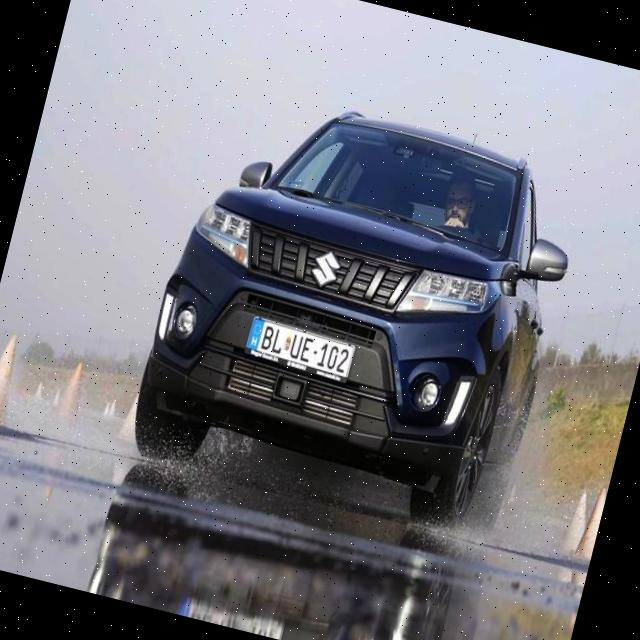licence: (240, 312, 360, 388)
